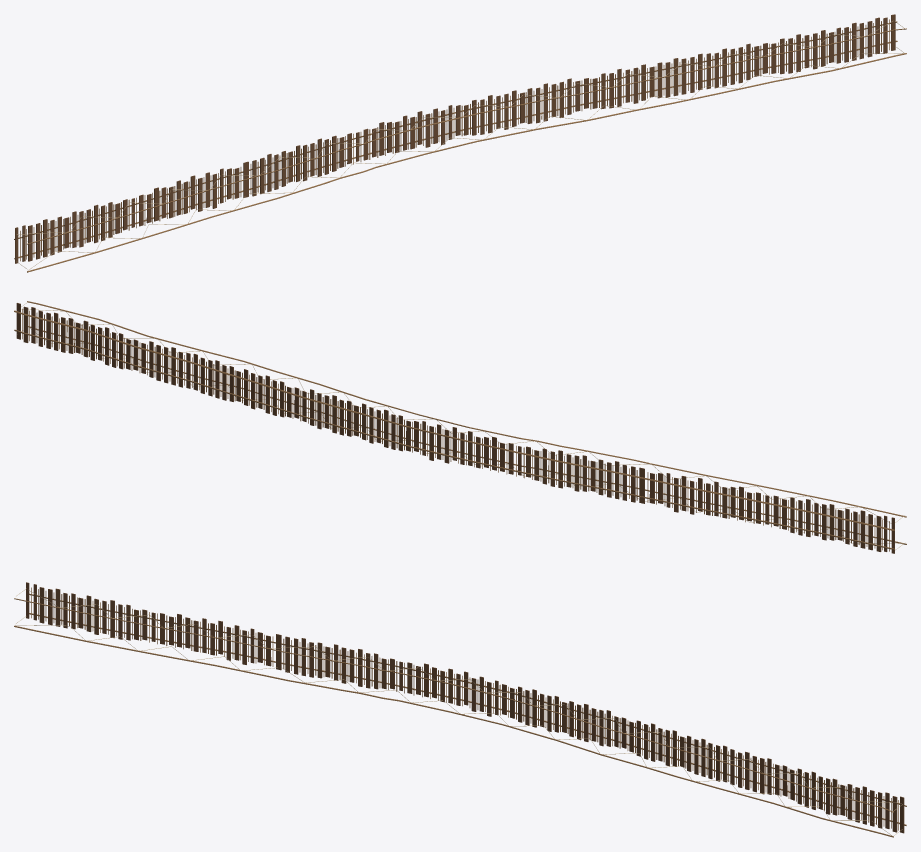
File: Bridge_50m_01.fbx
The picture shows the model from 3 angles, top to bottom: view 1: azimuth 30°, elevation 25°; view 2: azimuth 150°, elevation 25°; view 3: azimuth 330°, elevation 25°; orthographic projection.
Visible parts, largest first — view 1: Bridge 50 M 2.001; view 2: Bridge 50 M 2.001; view 3: Bridge 50 M 2.001.
Boxes of the visible parts, <box> form: Bridge 50 M 2.001: <box>14,14,906,272</box>; Bridge 50 M 2.001: <box>14,301,906,553</box>; Bridge 50 M 2.001: <box>14,582,906,837</box>.
Bounding box in the file's own units: 5017 × 209 × 304.
